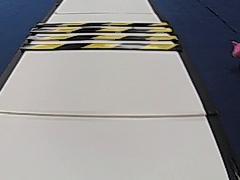bump: (14, 17, 186, 55)
